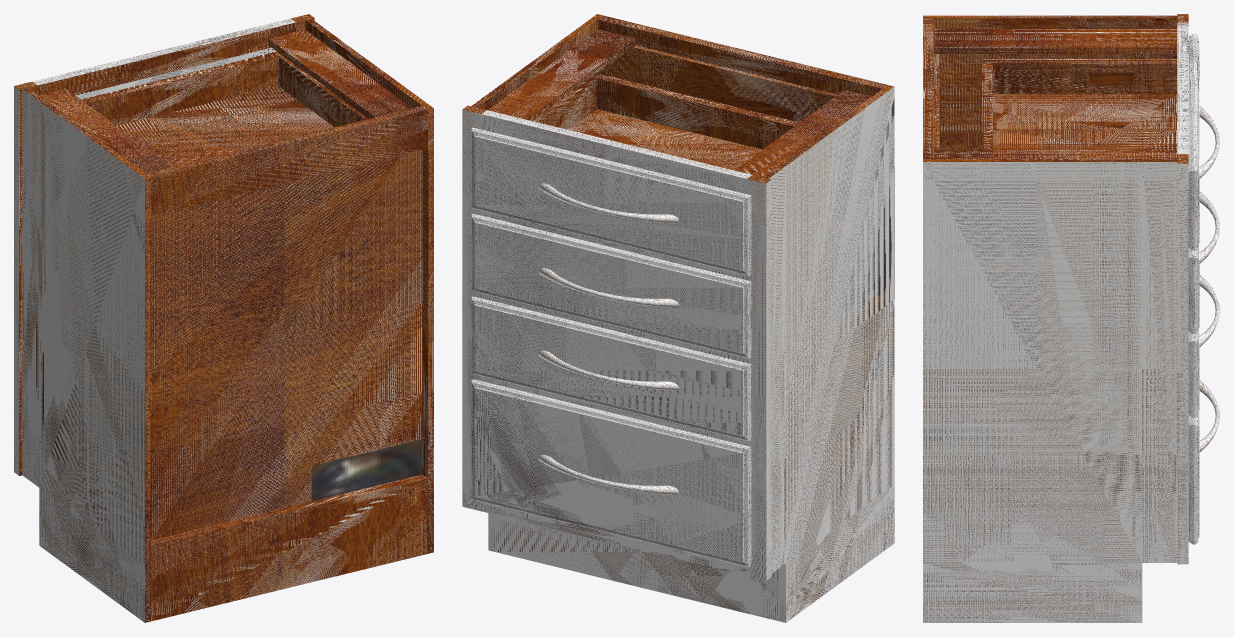
The picture shows the model from 3 angles, left to right: view 1: azimuth 30°, elevation 25°; view 2: azimuth 150°, elevation 25°; view 3: azimuth 270°, elevation 25°; orthographic projection. The views are drawn at different scales.
Parts seen in each view (by area): view 1: mesh4_mesh4-geometry, mesh7_mesh7-geometry, mesh12_mesh12-geometry, mesh3_mesh3-geometry, mesh19_mesh19-geometry, mesh6_mesh6-geometry, mesh8_mesh8-geometry, mesh17_mesh17-geometry, mesh5_mesh5-geometry, mesh10_mesh10-geometry, mesh14_mesh14-geometry, mesh32_mesh32-geometry (+4 smaller); view 2: mesh26_mesh26-geometry, mesh7_mesh7-geometry, mesh2_mesh2-geometry, mesh5_mesh5-geometry, mesh13_mesh13-geometry, mesh27_mesh27-geometry, mesh4_mesh4-geometry, mesh8_mesh8-geometry, mesh17_mesh17-geometry, mesh6_mesh6-geometry, mesh3_mesh3-geometry, mesh28_mesh28-geometry (+8 smaller); view 3: mesh10_mesh10-geometry, mesh9_mesh9-geometry, mesh11_mesh11-geometry, mesh19_mesh19-geometry, mesh7_mesh7-geometry, mesh15_mesh15-geometry, mesh16_mesh16-geometry, mesh2_mesh2-geometry, mesh29_mesh29-geometry, mesh14_mesh14-geometry, mesh31_mesh31-geometry, mesh27_mesh27-geometry (+6 smaller).
Boxes of the visible parts, <box> form: mesh4_mesh4-geometry: <box>151,150,422,540</box>; mesh7_mesh7-geometry: <box>39,100,150,564</box>; mesh12_mesh12-geometry: <box>151,474,427,621</box>; mesh3_mesh3-geometry: <box>146,106,427,215</box>; mesh19_mesh19-geometry: <box>117,86,333,166</box>; mesh6_mesh6-geometry: <box>22,87,44,487</box>; mesh8_mesh8-geometry: <box>39,488,150,622</box>; mesh17_mesh17-geometry: <box>81,52,278,125</box>; mesh5_mesh5-geometry: <box>33,18,295,95</box>; mesh10_mesh10-geometry: <box>322,31,433,495</box>; mesh14_mesh14-geometry: <box>268,30,411,118</box>; mesh32_mesh32-geometry: <box>311,439,422,501</box>; mesh26_mesh26-geometry: <box>477,137,740,560</box>; mesh7_mesh7-geometry: <box>780,85,894,562</box>; mesh2_mesh2-geometry: <box>462,105,771,580</box>; mesh5_mesh5-geometry: <box>481,110,751,575</box>; mesh13_mesh13-geometry: <box>494,515,779,621</box>; mesh27_mesh27-geometry: <box>477,129,745,453</box>; mesh4_mesh4-geometry: <box>598,45,837,122</box>; mesh8_mesh8-geometry: <box>779,484,894,622</box>; mesh17_mesh17-geometry: <box>596,74,799,149</box>; mesh6_mesh6-geometry: <box>762,164,785,573</box>; mesh3_mesh3-geometry: <box>598,15,887,96</box>; mesh28_mesh28-geometry: <box>477,205,742,565</box>; mesh10_mesh10-geometry: <box>923,159,1142,562</box>; mesh9_mesh9-geometry: <box>1142,159,1177,562</box>; mesh11_mesh11-geometry: <box>923,563,1142,622</box>; mesh19_mesh19-geometry: <box>993,94,1177,150</box>; mesh7_mesh7-geometry: <box>923,15,1142,150</box>; mesh15_mesh15-geometry: <box>934,28,1177,53</box>; mesh16_mesh16-geometry: <box>982,58,1177,93</box>; mesh2_mesh2-geometry: <box>1177,14,1188,564</box>; mesh29_mesh29-geometry: <box>1188,174,1199,538</box>; mesh14_mesh14-geometry: <box>934,150,1177,158</box>; mesh31_mesh31-geometry: <box>1199,106,1219,452</box>; mesh27_mesh27-geometry: <box>1188,37,1199,425</box>.
Bounding box in the file's own units: 0.515 × 0.7404 × 0.4319.
